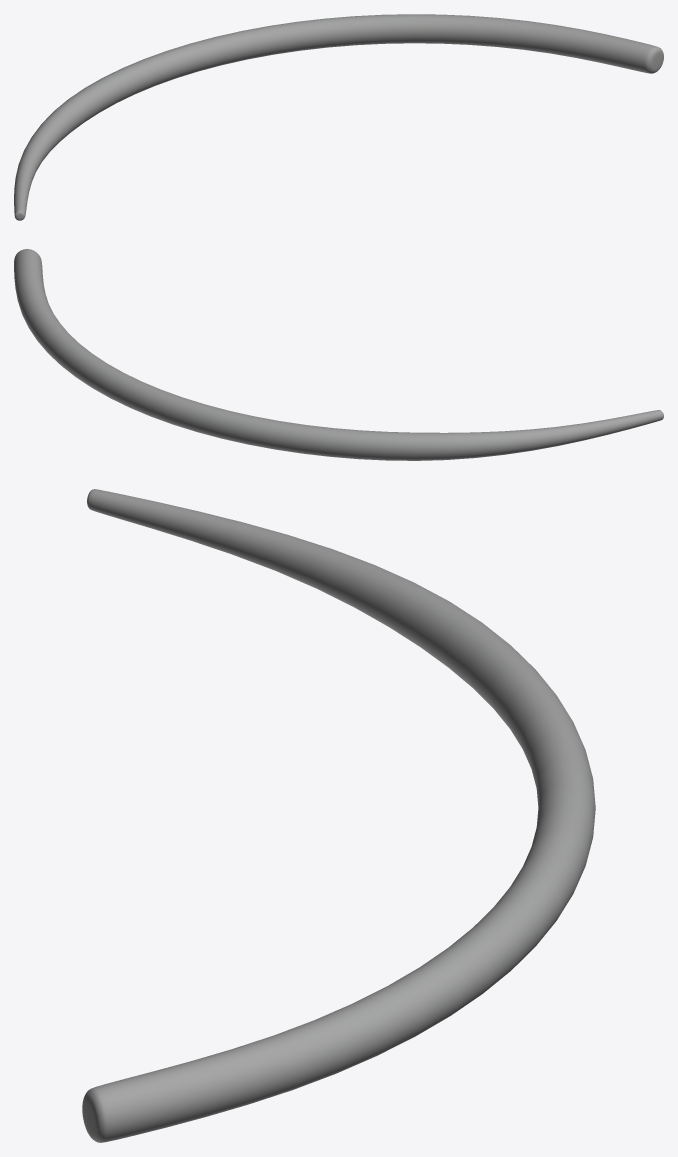
The model's file is Needle.OBJ.
3 renders of one model, top to bottom at view 1: azimuth 30°, elevation 25°; view 2: azimuth 150°, elevation 25°; view 3: azimuth 270°, elevation 25°, orthographic. The views are drawn at different scales.
Visible parts, largest first — view 1: /ambf/env/Needle_/ambf/env/Needle_Needle_Cylinder.001; view 2: /ambf/env/Needle_/ambf/env/Needle_Needle_Cylinder.001; view 3: /ambf/env/Needle_/ambf/env/Needle_Needle_Cylinder.001.
Boxes of the visible parts, box(x1,y1,x2,y2) form: /ambf/env/Needle_/ambf/env/Needle_Needle_Cylinder.001: box(14, 14, 663, 220); /ambf/env/Needle_/ambf/env/Needle_Needle_Cylinder.001: box(14, 249, 663, 460); /ambf/env/Needle_/ambf/env/Needle_Needle_Cylinder.001: box(82, 489, 595, 1142).
Bounding box in the file's own units: 0.1865 × 0.00725 × 0.0641.
1 material, 1 textured.
